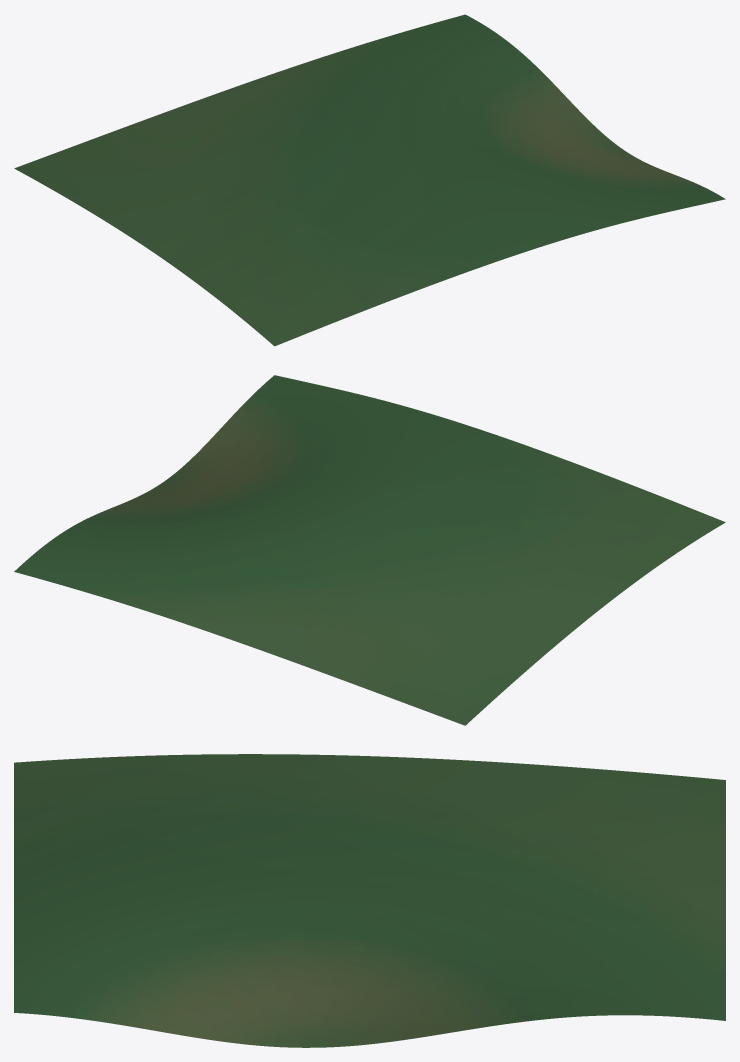
The model's file is terrain_T_W01_N06.glb.
3 renders of one model, top to bottom at view 1: azimuth 30°, elevation 25°; view 2: azimuth 150°, elevation 25°; view 3: azimuth 270°, elevation 25°, orthographic. The views are drawn at different scales.
Visible parts, largest first — view 1: Terrain_T_W01_N06; view 2: Terrain_T_W01_N06; view 3: Terrain_T_W01_N06.
Boxes of the visible parts, x1,y1,x2,y2 form: Terrain_T_W01_N06: (14, 14, 725, 346); Terrain_T_W01_N06: (14, 375, 725, 725); Terrain_T_W01_N06: (14, 754, 725, 1047).
Size of the model in its own units: 2000 by 230 by 2000.
1 material, 1 textured.
